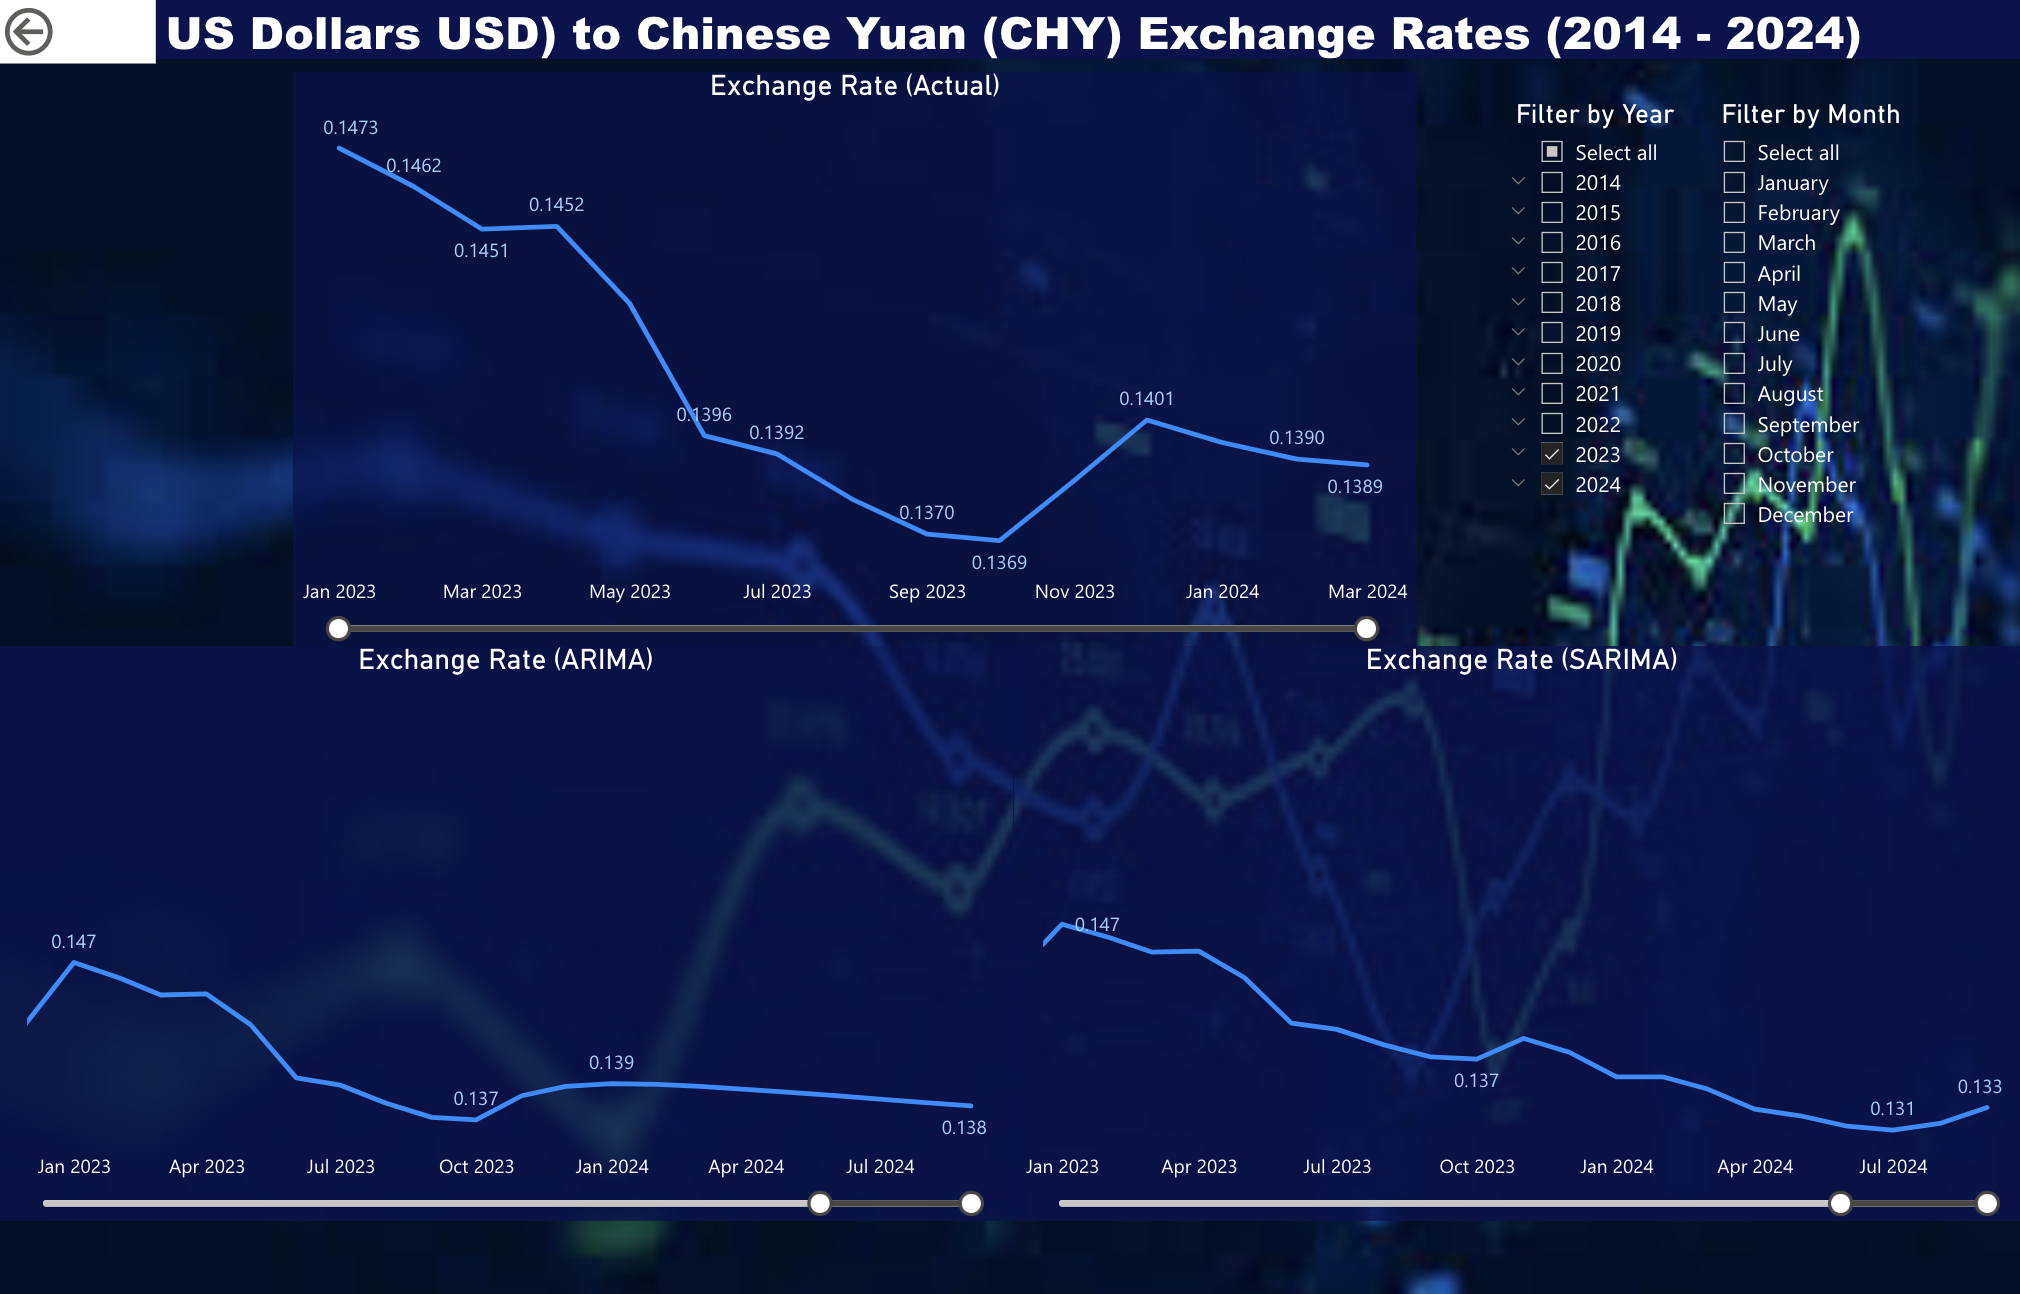

This screenshot's page, from the dashboard's own definition file:
{"tool":"powerbi","page":{"name":"China","canvas":[1280,840],"ordinal":4},"visuals":[{"type":"lineChart","title":"Exchange Rate (Actual)","fields":{"Y":["Sum(chinam.Ex_rate)"],"Category":["chinam.Date"]},"box":[186.8,45.9,707.4,361.3],"z":0},{"type":"lineChart","title":"Exchange Rate (ARIMA)","fields":{"Y":["Sum(chn_arima_forecasts.Exchange Rate)"],"Category":["chn_arima_forecasts.Date"]},"box":[0,407.4,640.3,362.1],"z":1000},{"type":"lineChart","title":"Exchange Rate (SARIMA)","fields":{"Y":["Sum(chn_sarima_forecasts.Exchange Rate)"],"Category":["chn_sarima_forecasts.Date"]},"box":[640.3,407.4,640.3,362.1],"z":2000},{"type":"textbox","title":"US Dollars USD) to Chinese Yuan (CHY) Exchange Rates (2014 - 2024)","box":[0,0,1280.4,36.8],"z":3000},{"type":"actionButton","box":[0,0,100,40],"z":4000},{"type":"slicer","title":"Filter by Year","fields":{"Values":["chinam.Date.Variation.Date Hierarchy.Year","chinam.Date.Variation.Date Hierarchy.Quarter"]},"box":[938.6,64.3,136.3,274.1],"z":5000},{"type":"slicer","title":"Filter by Month","fields":{"Values":["chinam.Date.Variation.Date Hierarchy.Month"]},"box":[1074.8,64.3,136.3,274.1],"z":6000}]}

Visuals, with their boxes in screenshot pixels (x1, y1, x2, y2), scaled from the page's 1280x840 canvas onto the 2020x1294 screenshot:
"Exchange Rate (Actual)" lineChart: 295 71 1411 627
"Exchange Rate (ARIMA)" lineChart: 0 628 1010 1185
"Exchange Rate (SARIMA)" lineChart: 1010 628 2019 1185
"US Dollars USD) to Chinese Yuan (CHY) Exchange Rates (2014 - 2024)" textbox: 0 0 2019 57
actionButton: 0 0 158 62
"Filter by Year" slicer: 1481 99 1696 521
"Filter by Month" slicer: 1696 99 1911 521
